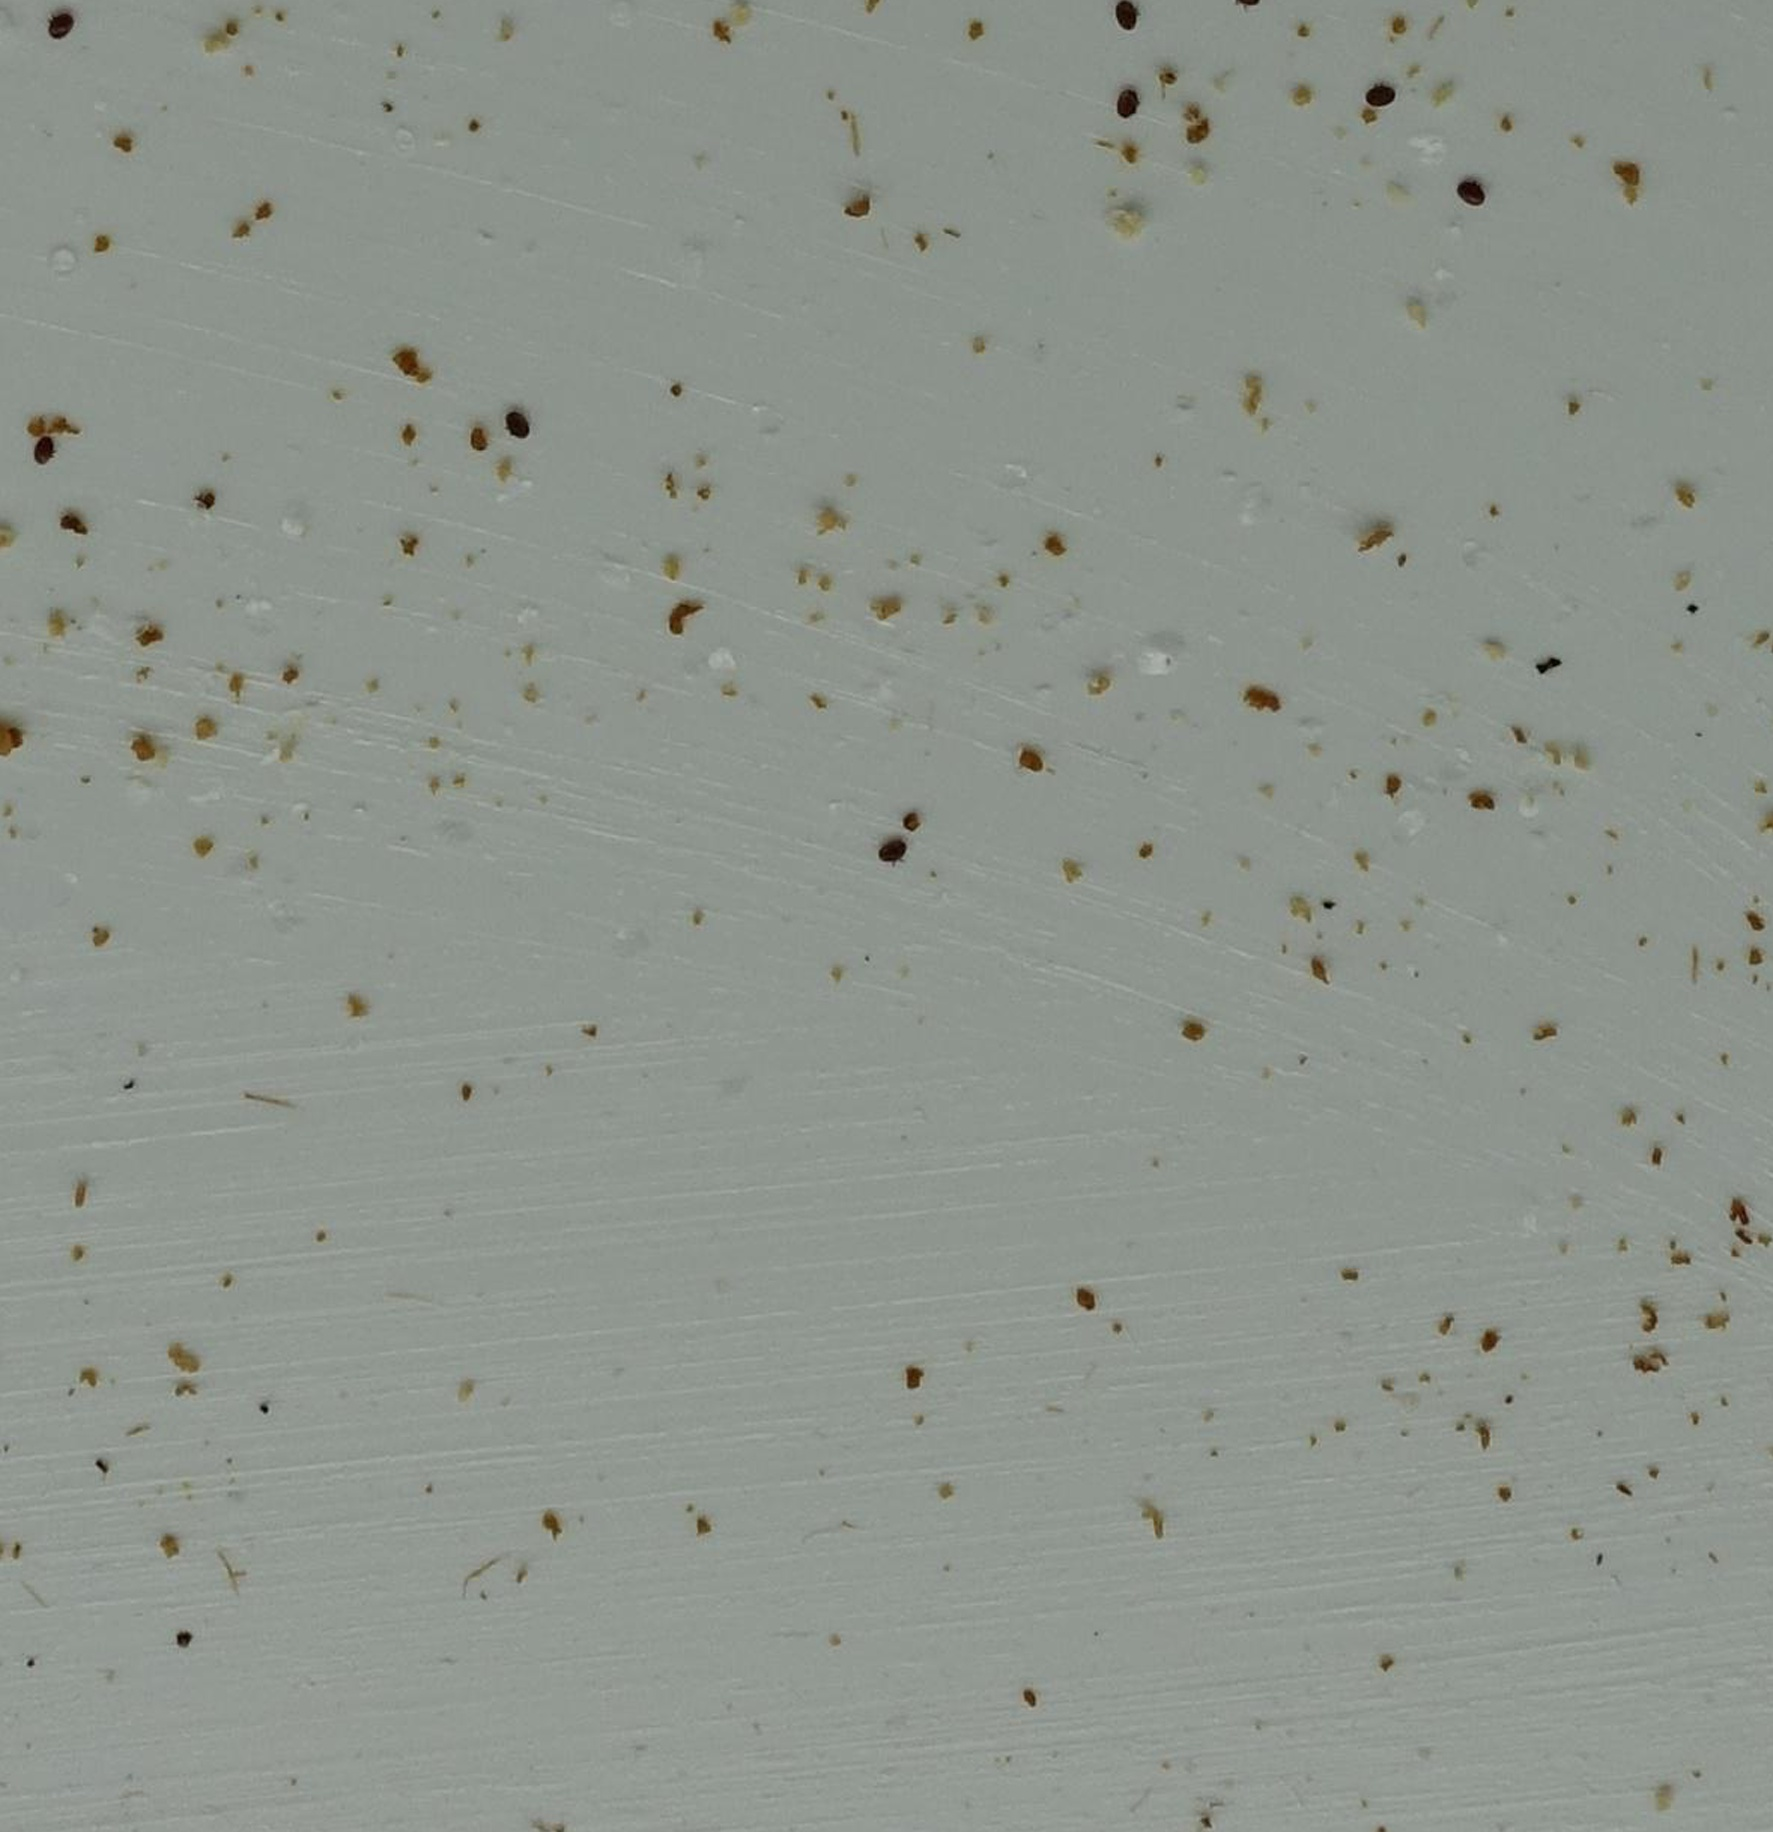Varroa: (1456, 175, 1488, 209), (1366, 82, 1398, 114), (29, 433, 61, 465), (1106, 2, 1135, 33), (1112, 87, 1142, 118), (46, 10, 75, 39), (502, 409, 530, 440), (878, 841, 908, 869)
